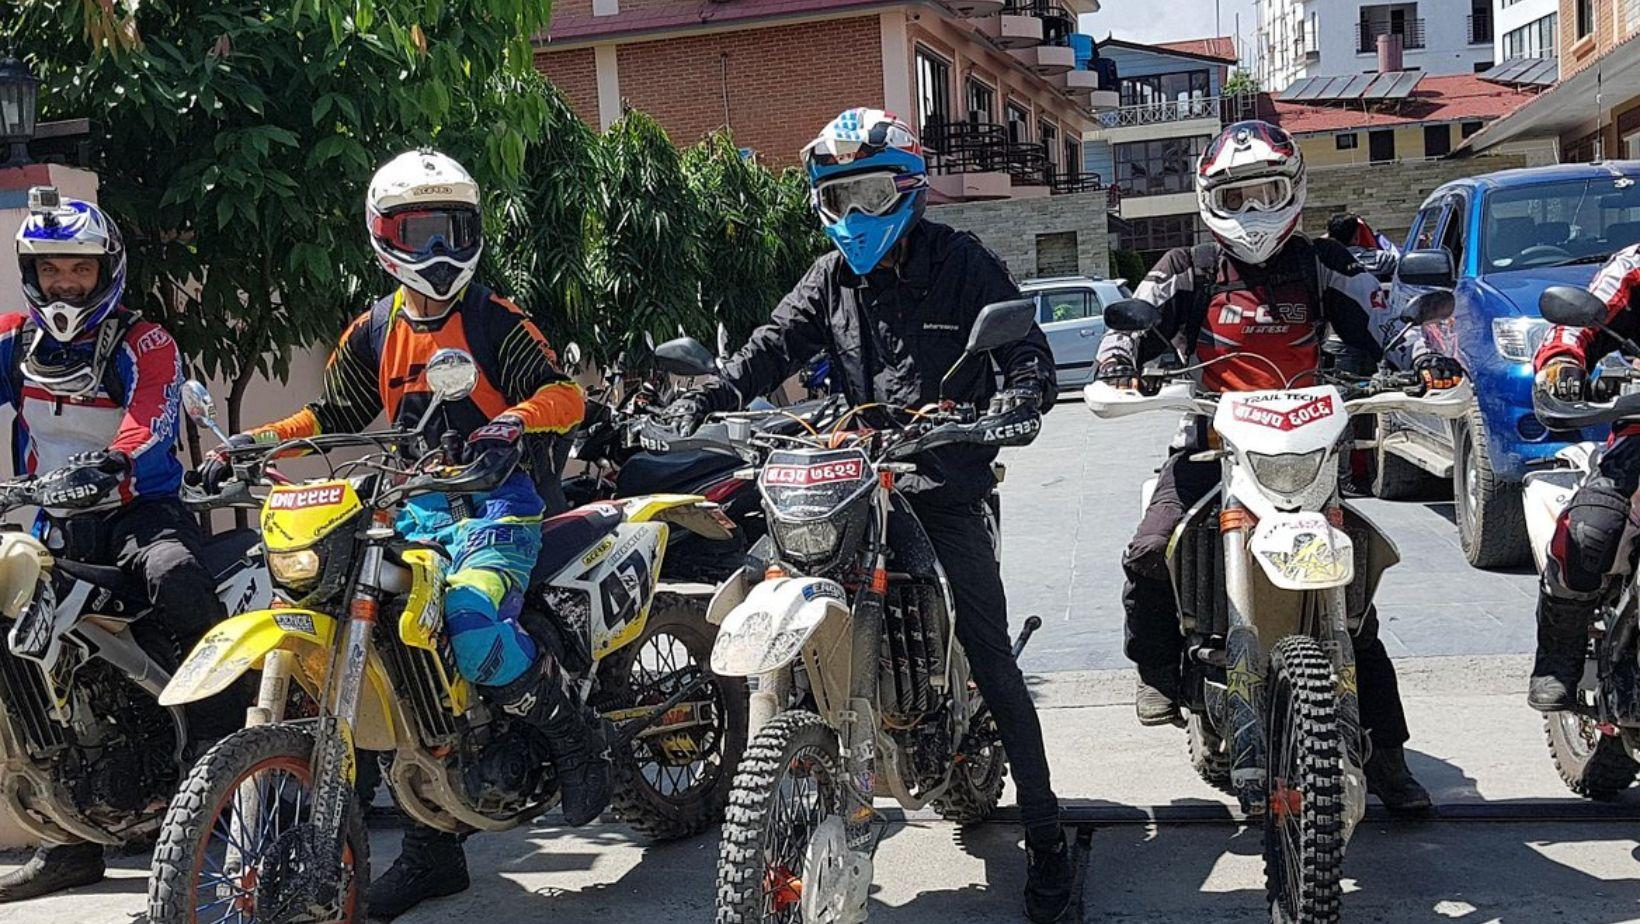bike: (155, 356, 714, 924), (630, 277, 1055, 924), (1060, 282, 1461, 924)
